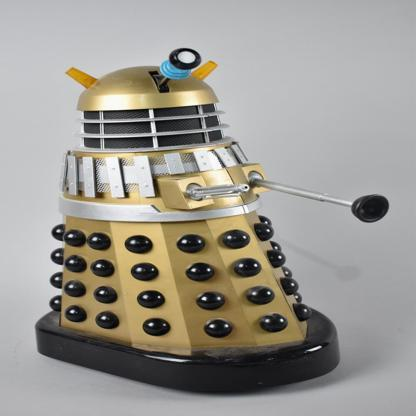dalek: (17, 13, 394, 395)
